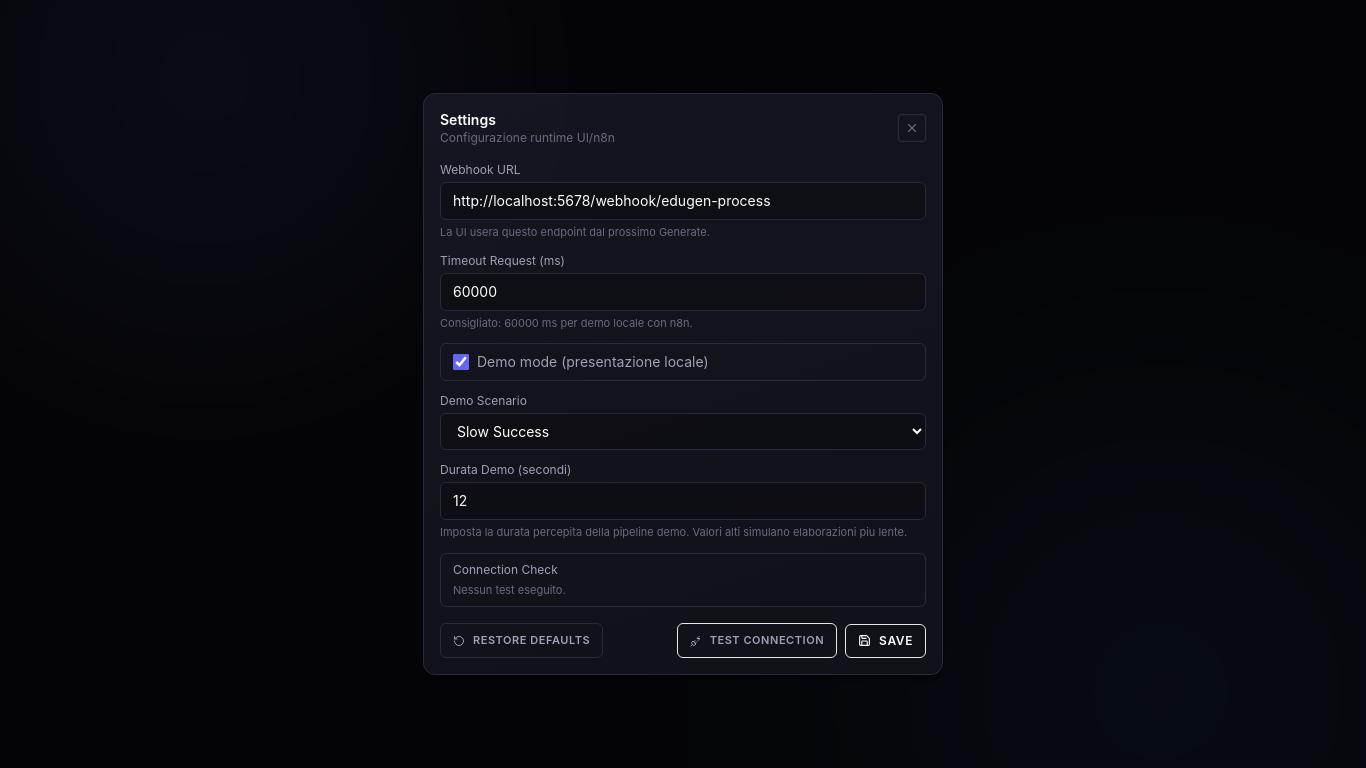
Test: SettingsModal › shows validation feedback for invalid timeout before testing
Replace the text in the number field showing "60000" with "1000": (683, 292) [440,273,926,311]
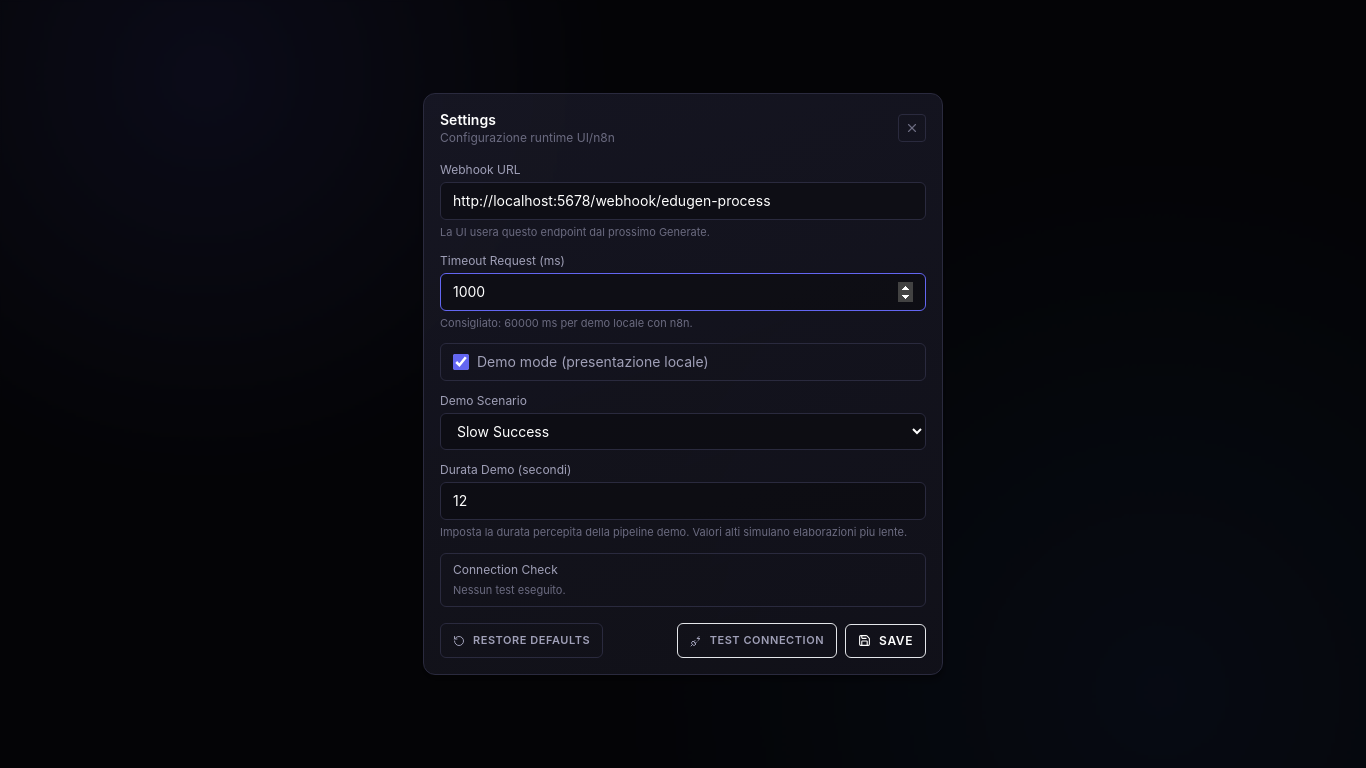
Click the button "TEST CONNECTION": (757, 641) [677,623,837,658]
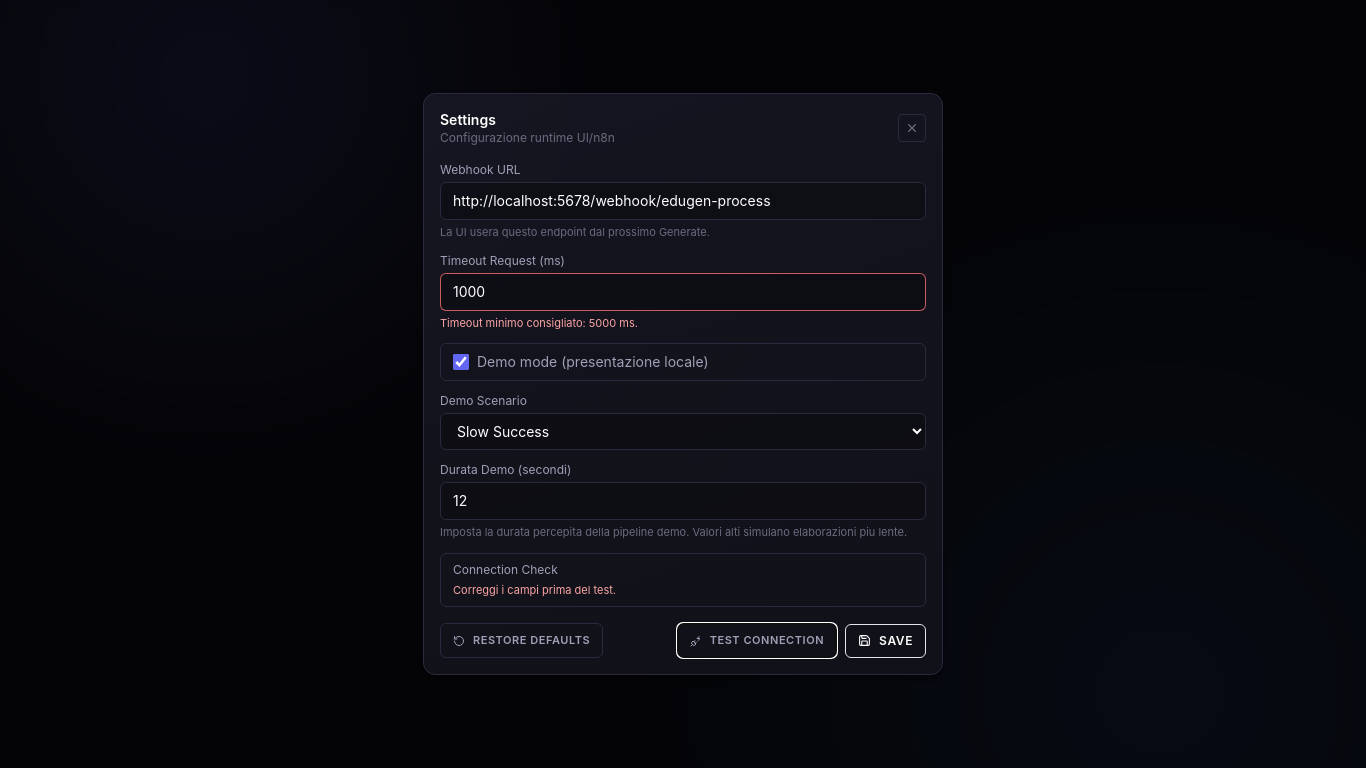
Check: the text "Timeout minimo consigliato: 5000 ms." is shown, box [440,316,638,330]
